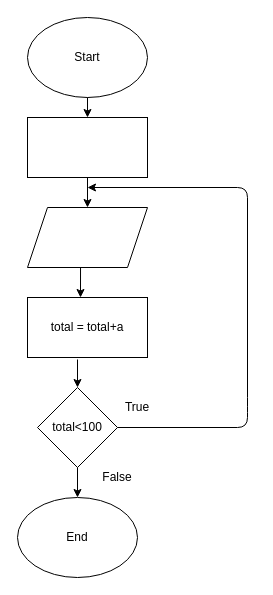
This 273x595 diagram has some shape labels left out. The box of each missing label's shape, as (x1, y1, x2, y2) in pixels:
Enter value for a: (26, 206, 148, 268)
total = 0: (26, 116, 148, 178)
